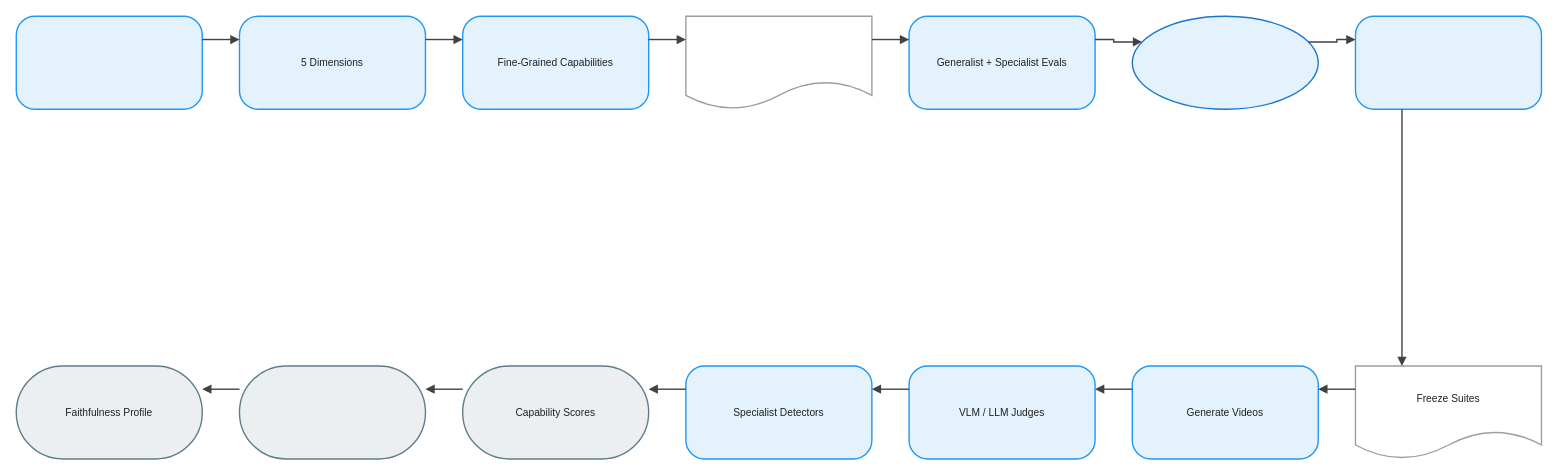
This 1559x476 diagram has some shape labels left out. Here are the shapes that lost their labels. From the top down, the centre of each, then its label:
(109,62): Intrinsic Faithfulness
(778,62): Capability Prompts
(1225,62): Human Annotations
(1448,62): Alignment Calibration
(332,412): 5-Dimension Aggregate
